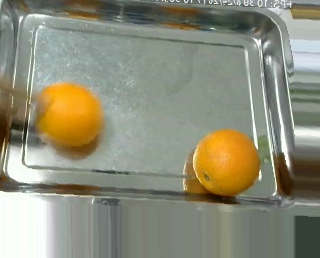Orange: (190, 129, 261, 196), (33, 81, 102, 146)
